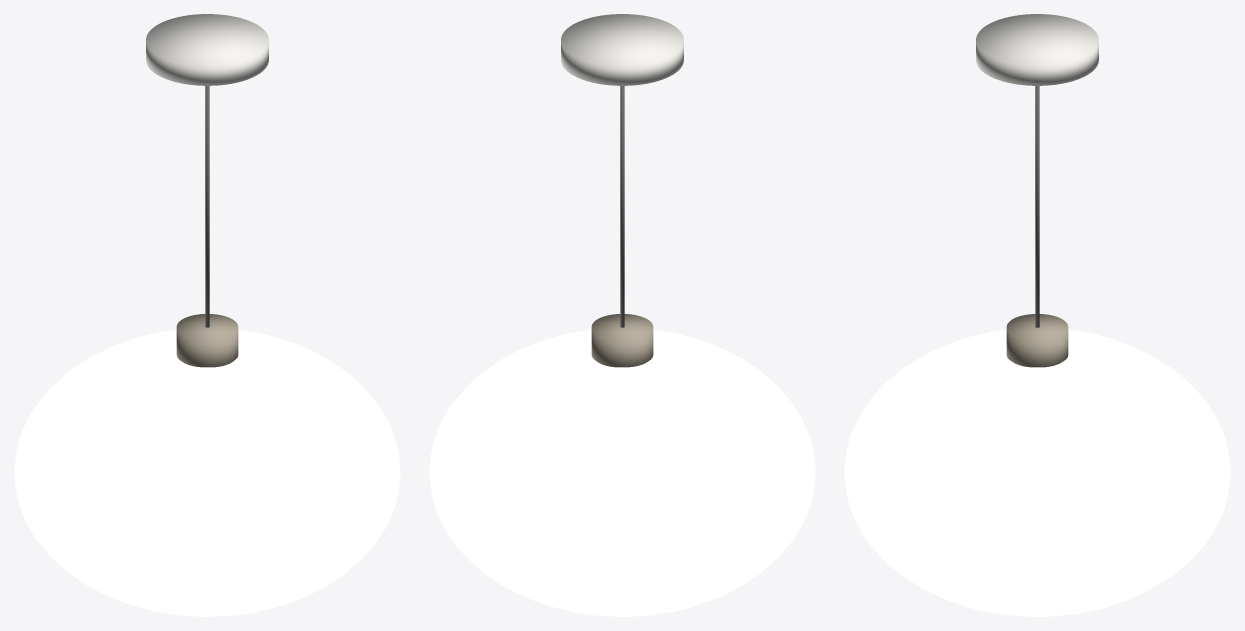
File: pendant.glb
3 renders of one model, left to right at view 1: azimuth 30°, elevation 25°; view 2: azimuth 150°, elevation 25°; view 3: azimuth 270°, elevation 25°, orthographic.
Parts seen in each view (by area): view 1: 乳白玻璃灯罩_0, 吊灯吸顶盘_3, 吊灯金属灯颈_1, 吊灯细吊线_2; view 2: 乳白玻璃灯罩_0, 吊灯吸顶盘_3, 吊灯金属灯颈_1, 吊灯细吊线_2; view 3: 乳白玻璃灯罩_0, 吊灯吸顶盘_3, 吊灯金属灯颈_1, 吊灯细吊线_2.
Part boxes in pixels (x1=…): 乳白玻璃灯罩_0: x1=14, y1=329, x2=400, y2=616; 吊灯吸顶盘_3: x1=146, y1=14, x2=268, y2=85; 吊灯金属灯颈_1: x1=176, y1=314, x2=238, y2=367; 吊灯细吊线_2: x1=205, y1=86, x2=209, y2=327; 乳白玻璃灯罩_0: x1=429, y1=329, x2=815, y2=616; 吊灯吸顶盘_3: x1=561, y1=14, x2=683, y2=85; 吊灯金属灯颈_1: x1=591, y1=314, x2=653, y2=367; 吊灯细吊线_2: x1=620, y1=86, x2=624, y2=327; 乳白玻璃灯罩_0: x1=844, y1=330, x2=1230, y2=616; 吊灯吸顶盘_3: x1=976, y1=14, x2=1098, y2=85; 吊灯金属灯颈_1: x1=1006, y1=314, x2=1068, y2=367; 吊灯细吊线_2: x1=1035, y1=86, x2=1039, y2=327.
Size of the model in its own units: 0.44 by 0.6925 by 0.44.
